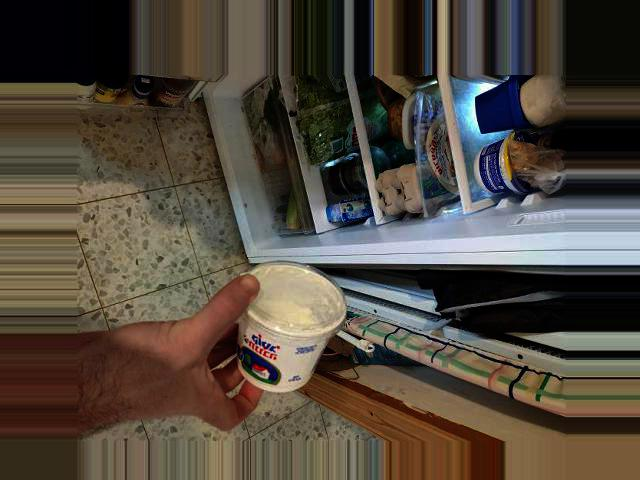cotage: (236, 278, 356, 378)
